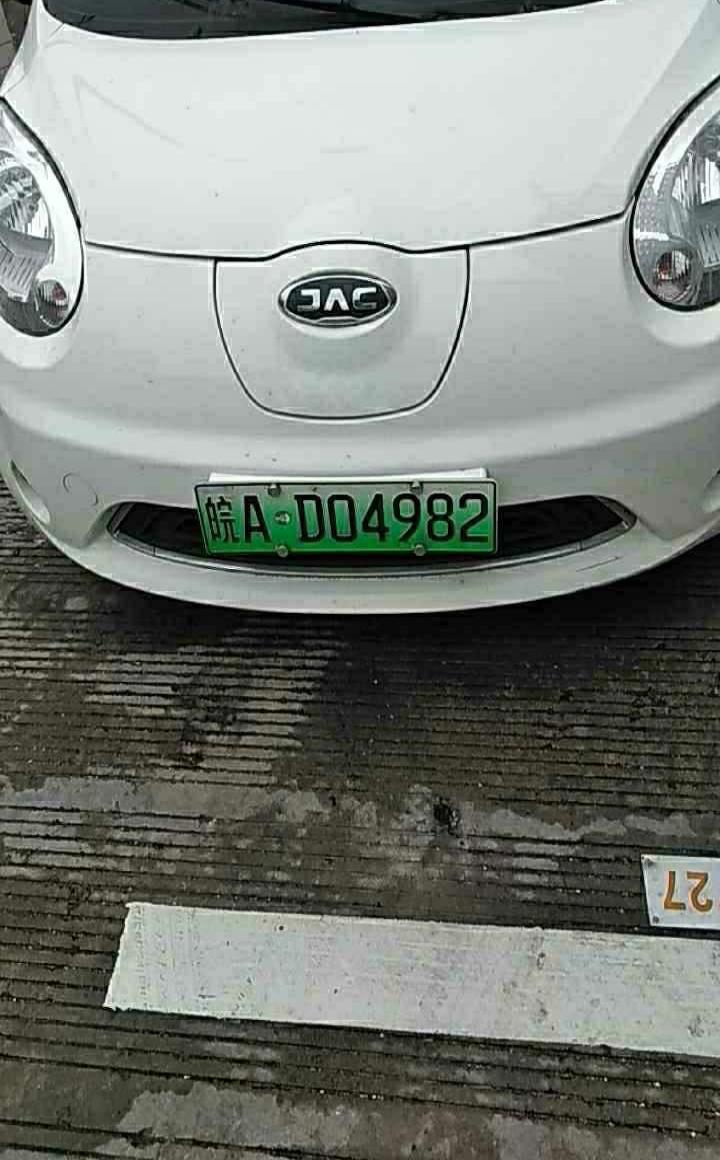car_id: (191, 480, 497, 552)
